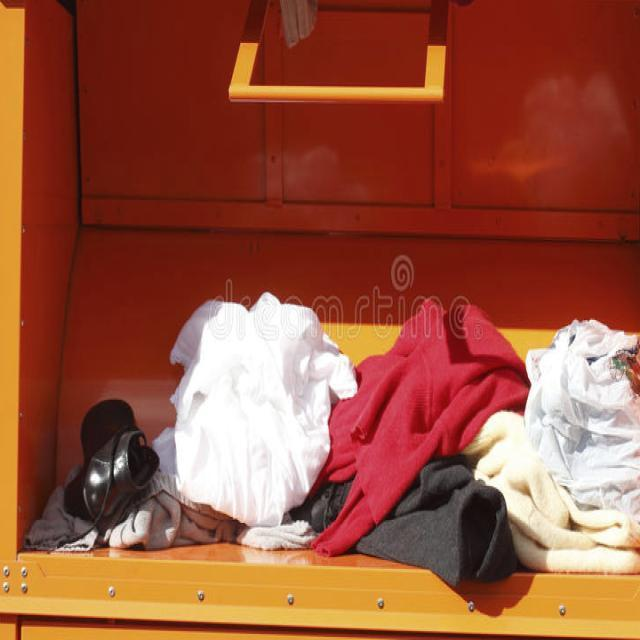clothes: (159, 304, 636, 578)
